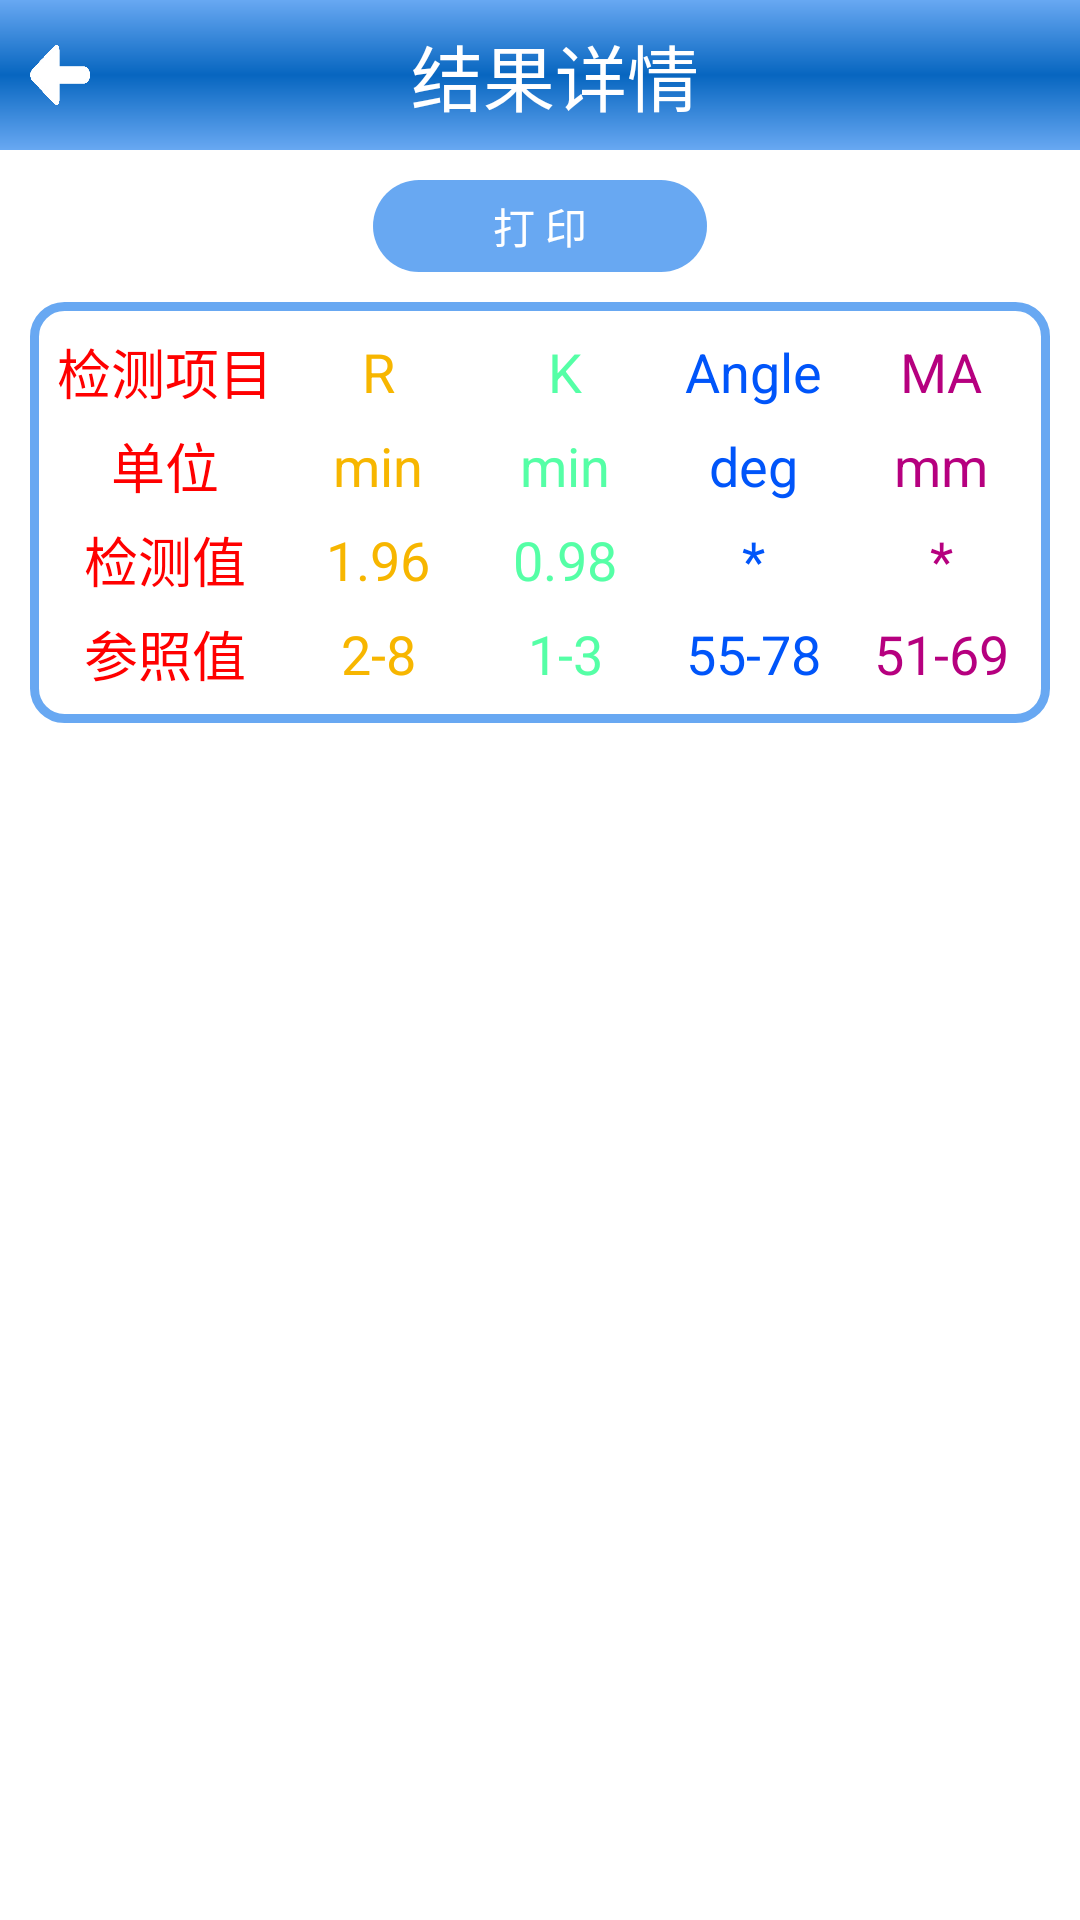

Where icons sit on this 1080 x 1920 app screen, as (x1, y1, x2, y2):
left arrow: (30, 45, 90, 105)
